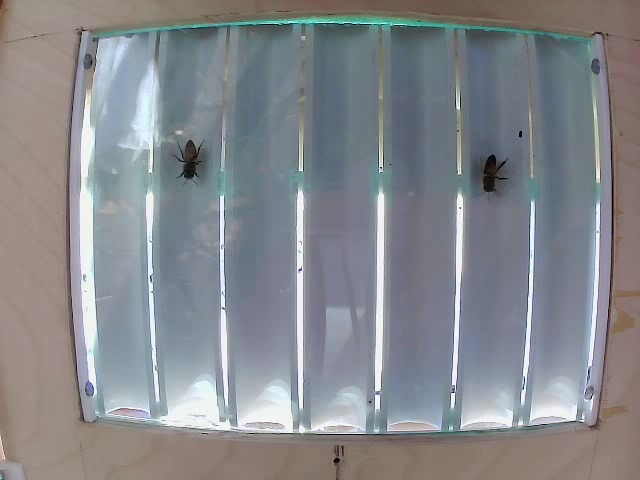bee: (169, 143, 210, 182), (471, 150, 503, 198)
